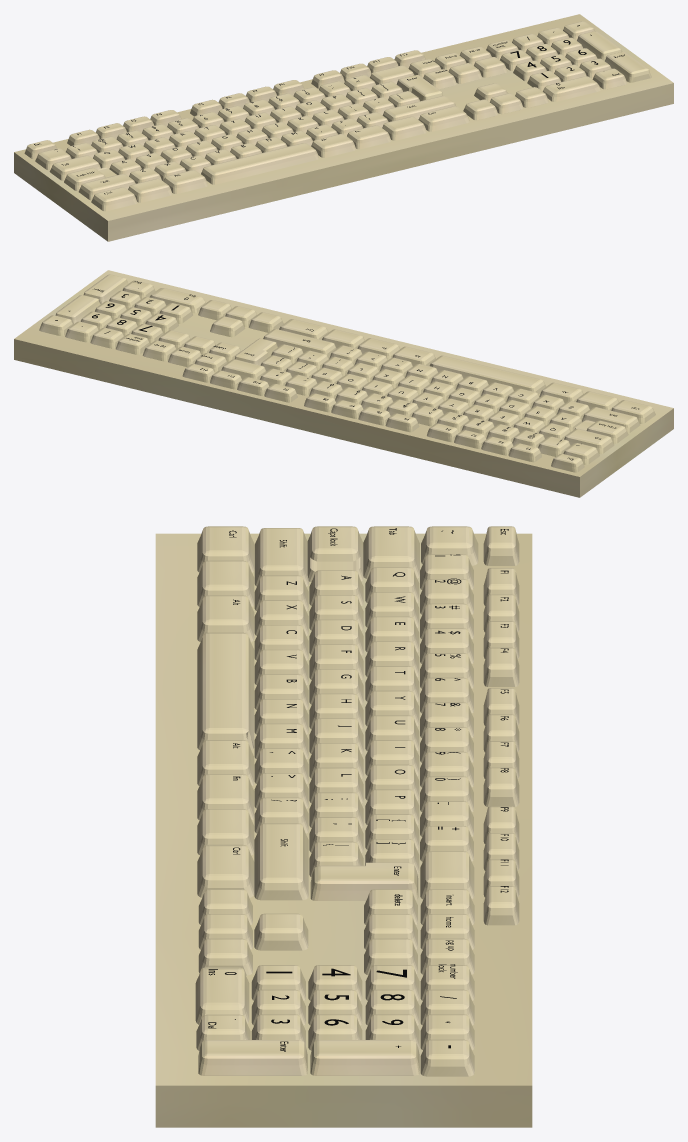
Rendered from tecrado do daru.fbx.
3 renders of one model, top to bottom at view 1: azimuth 30°, elevation 25°; view 2: azimuth 150°, elevation 25°; view 3: azimuth 270°, elevation 25°, orthographic. The views are drawn at different scales.
Parts seen in each view (by area): view 1: Cube.014_14, Cube.017_17, Cube.016_16, Cube.018_18, Cube.015_15, Cube.005_5, Cube.022_22, Cube.024_24, Cube.035_35, Cube.036_36, Cube.037_37, Cube.028_28 (+25 smaller); view 2: Cube.014_14, Cube.018_18, Cube.016_16, Cube.017_17, Cube.015_15, Cube.036_36, Cube.035_35, Cube.037_37, Cube.005_5, Cube.027_27, Cube.025_25, Cube.022_22 (+25 smaller); view 3: Cube.014_14, Cube.016_16, Cube.017_17, Cube.018_18, Cube.015_15, Cube.005_5, Cube.037_37, Cube.022_22, Cube.035_35, Cube.036_36, Cube.012_12, Cube.025_25 (+26 smaller).
Part boxes in pixels (x1=…): Cube.014_14: x1=14, y1=14, x2=673, y2=241; Cube.017_17: x1=93, y1=81, x2=403, y2=168; Cube.016_16: x1=109, y1=91, x2=419, y2=176; Cube.018_18: x1=66, y1=75, x2=375, y2=158; Cube.015_15: x1=129, y1=112, x2=388, y2=183; Cube.005_5: x1=201, y1=143, x2=319, y2=184; Cube.022_22: x1=463, y1=87, x2=548, y2=120; Cube.024_24: x1=423, y1=57, x2=507, y2=89; Cube.035_35: x1=67, y1=110, x2=181, y2=145; Cube.036_36: x1=190, y1=80, x2=304, y2=116; Cube.037_37: x1=311, y1=50, x2=425, y2=88; Cube.028_28: x1=527, y1=58, x2=611, y2=91; Cube.014_14: x1=14, y1=270, x2=673, y2=497; Cube.018_18: x1=260, y1=368, x2=570, y2=456; Cube.016_16: x1=271, y1=344, x2=582, y2=431; Cube.017_17: x1=260, y1=355, x2=570, y2=439; Cube.015_15: x1=329, y1=345, x2=589, y2=420; Cube.036_36: x1=304, y1=393, x2=419, y2=432; Cube.035_35: x1=427, y1=423, x2=541, y2=462; Cube.037_37: x1=182, y1=364, x2=297, y2=402; Cube.005_5: x1=429, y1=355, x2=546, y2=394; Cube.027_27: x1=65, y1=321, x2=149, y2=354; Cube.025_25: x1=142, y1=340, x2=227, y2=372; Cube.022_22: x1=198, y1=300, x2=283, y2=332; Cube.014_14: x1=155, y1=533, x2=532, y2=1127; Cube.016_16: x1=309, y1=570, x2=363, y2=877; Cube.017_17: x1=365, y1=567, x2=419, y2=874; Cube.018_18: x1=420, y1=554, x2=473, y2=861; Cube.015_15: x1=254, y1=575, x2=308, y2=833; Cube.005_5: x1=197, y1=633, x2=254, y2=750; Cube.037_37: x1=483, y1=806, x2=519, y2=925; Cube.022_22: x1=198, y1=889, x2=252, y2=975; Cube.035_35: x1=483, y1=568, x2=519, y2=686; Cube.036_36: x1=483, y1=688, x2=519, y2=806; Cube.012_12: x1=254, y1=823, x2=308, y2=900; Cube.025_25: x1=420, y1=889, x2=474, y2=974.
Bounding box in the file's own units: 1117 × 61.12 × 322.
